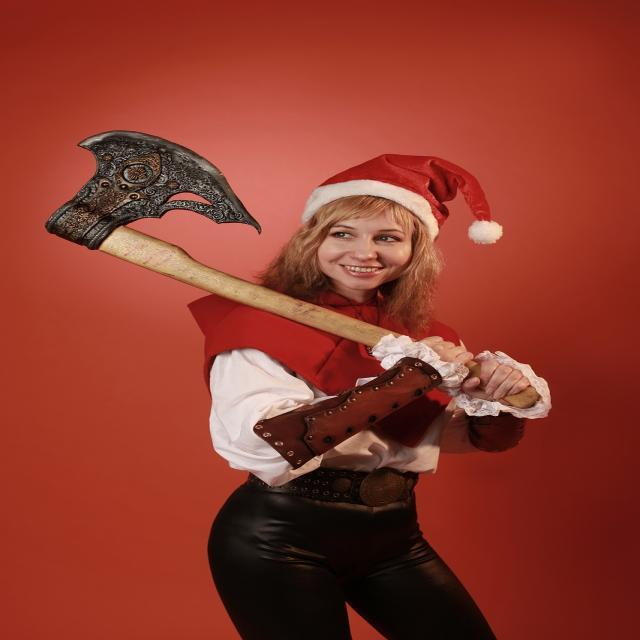Axe: (46, 131, 390, 347)
